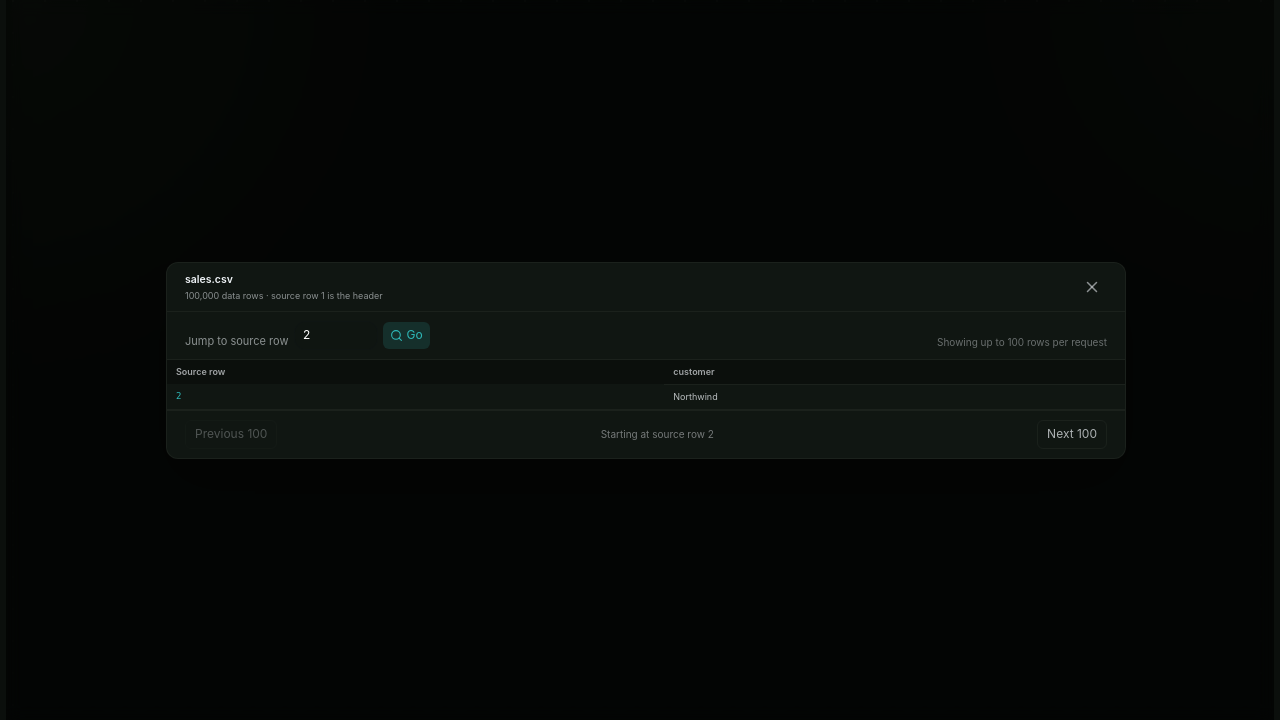
Grounded Query table preview › jumps directly to a source row using a bounded page request
Check: the text "Northwind" is shown, box [664,384,1125,409]
Replace the text in the field labelled "Jump to source row" with "60001": [336, 335] box [294,320,378,350]
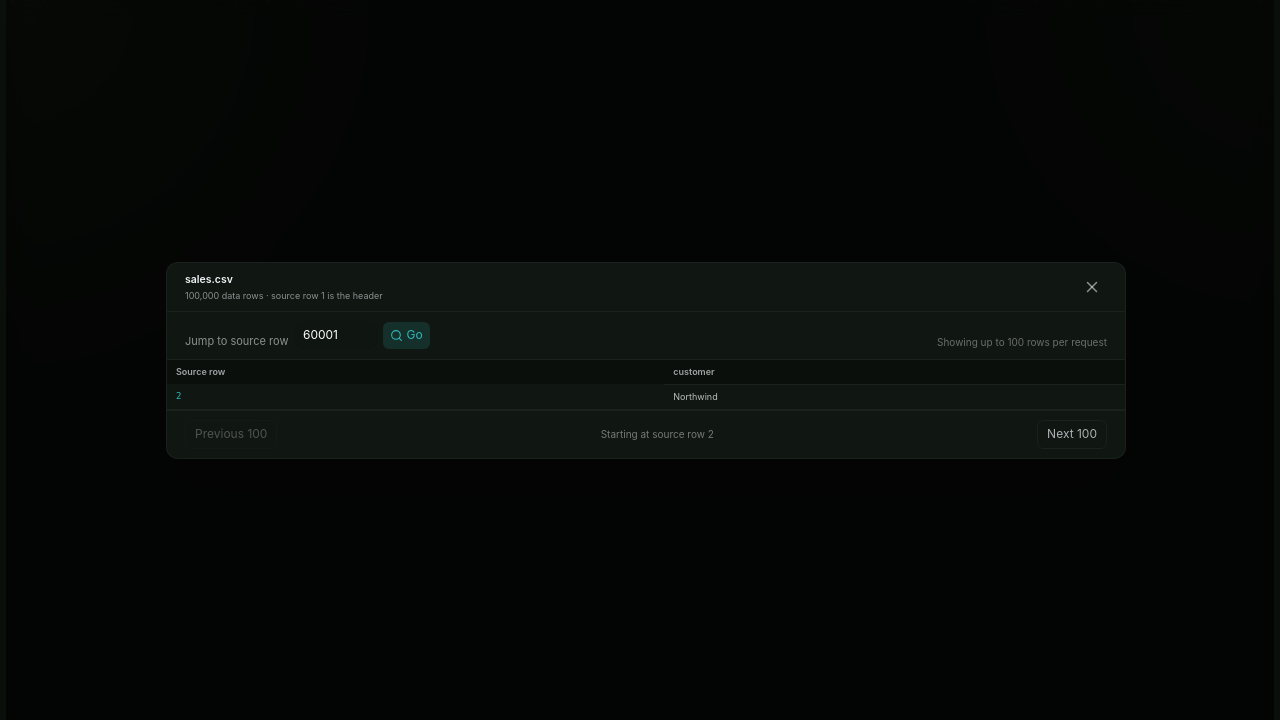
Click the button "Go": [407, 335] box [383,322,430,348]
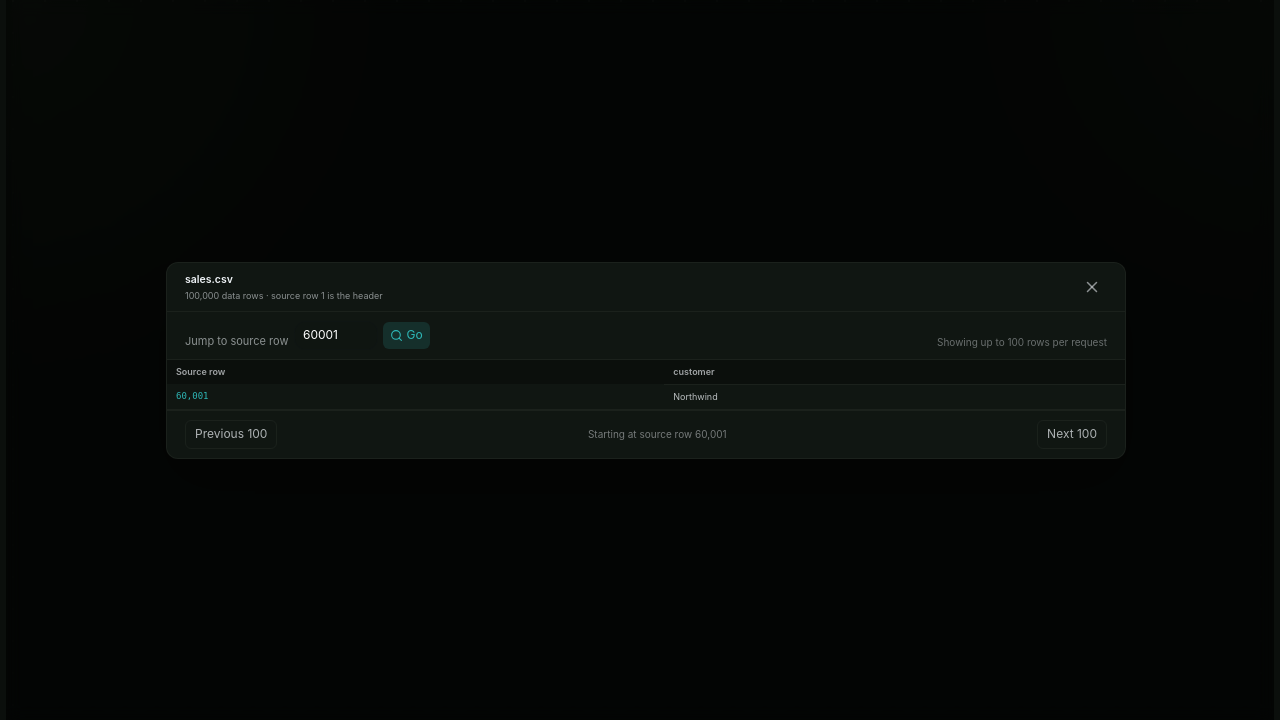
Check: the text "60,001" is shown, box [167,384,664,409]
